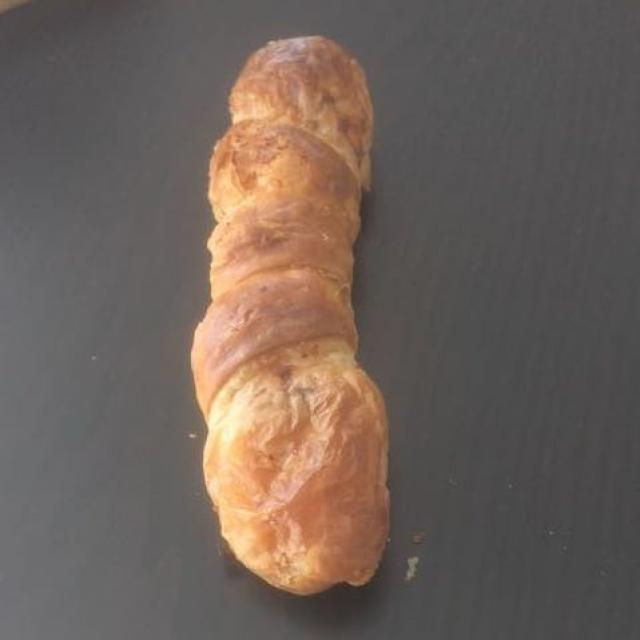croissant: (194, 62, 387, 593)
